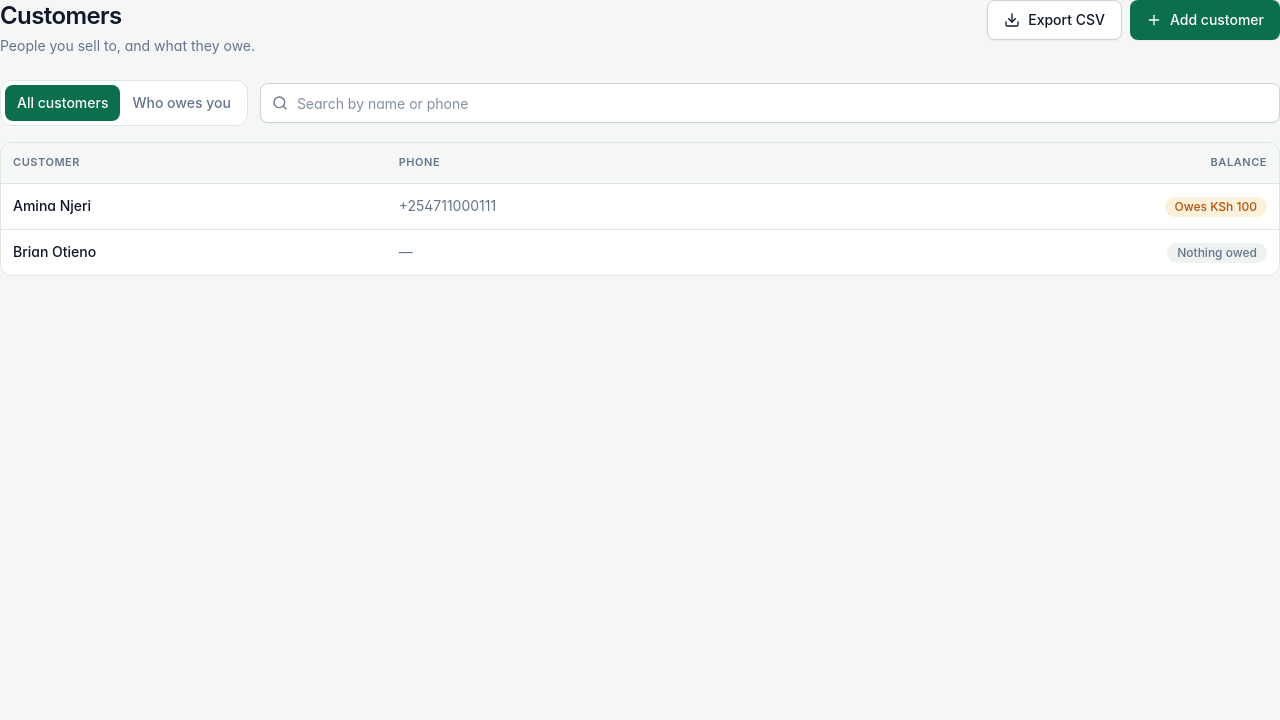
Test case: CustomersPage › lists customers, switches to debtors, and surfaces a duplicate phone on the field
Check: the button "Brian Otieno" is shown, box [13,242,96,262]
Check: the text "Owes KSh 100" is shown, box [1164,196,1267,216]
Click the tab "Who owes you": (182, 103) [120,85,243,121]
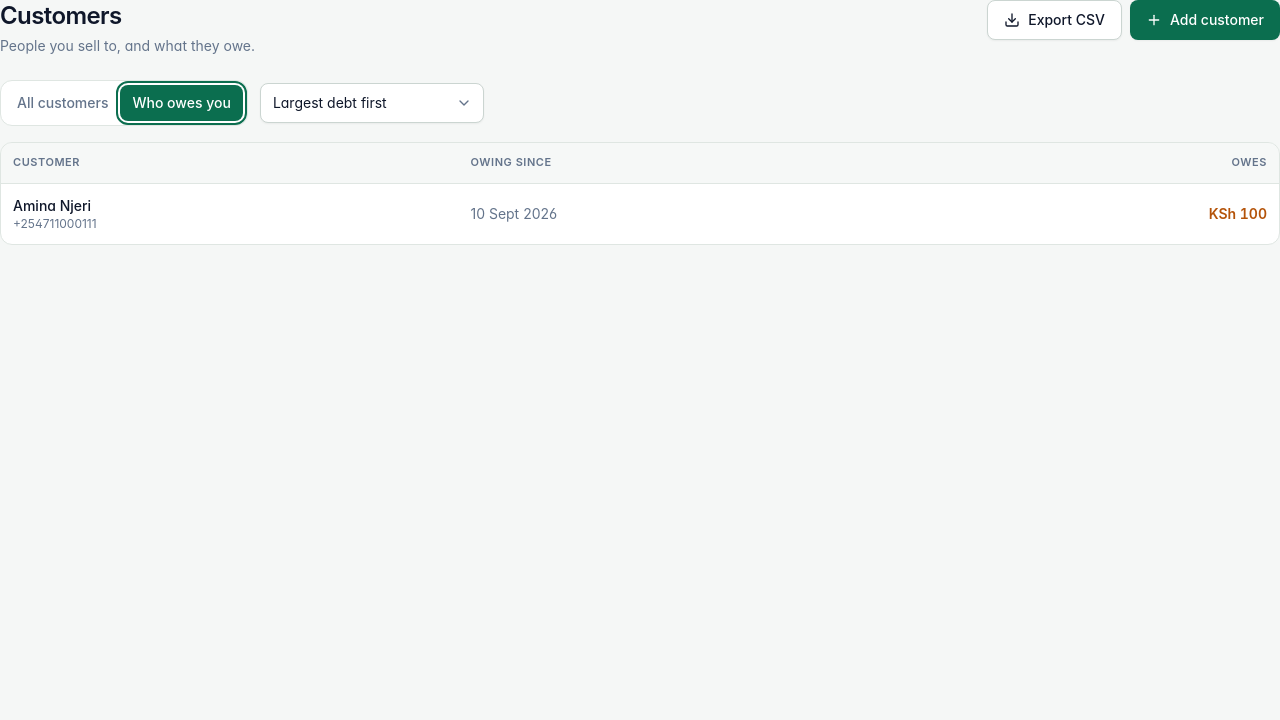
Check: the button "Amina Njeri" is shown, box [13,196,91,216]
Check: the dropdown named "Sort debtors" is shown, box [260,83,484,123]
Check: the button "Brian Otieno" is gone
Click the button "Add customer": (1205, 20) [1130,0,1279,40]
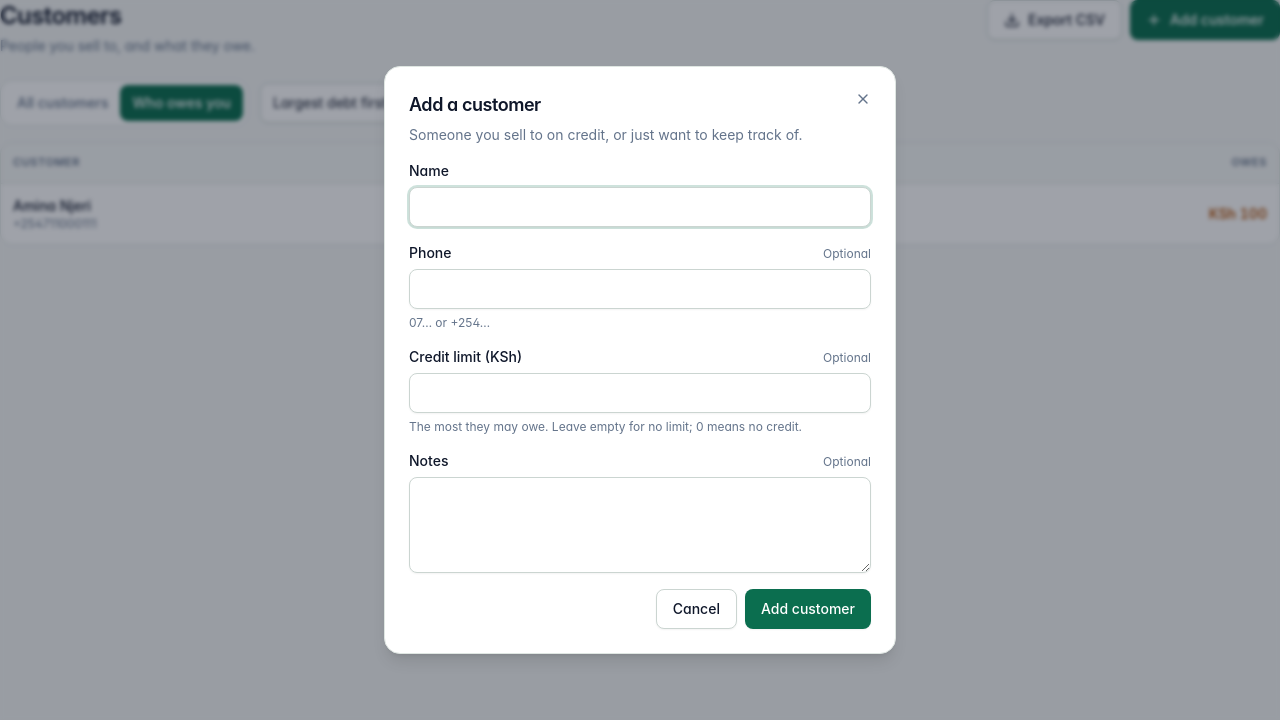
In the field labelled "Name": (640, 207) [409,187,871,227], type "Amina Njeri"
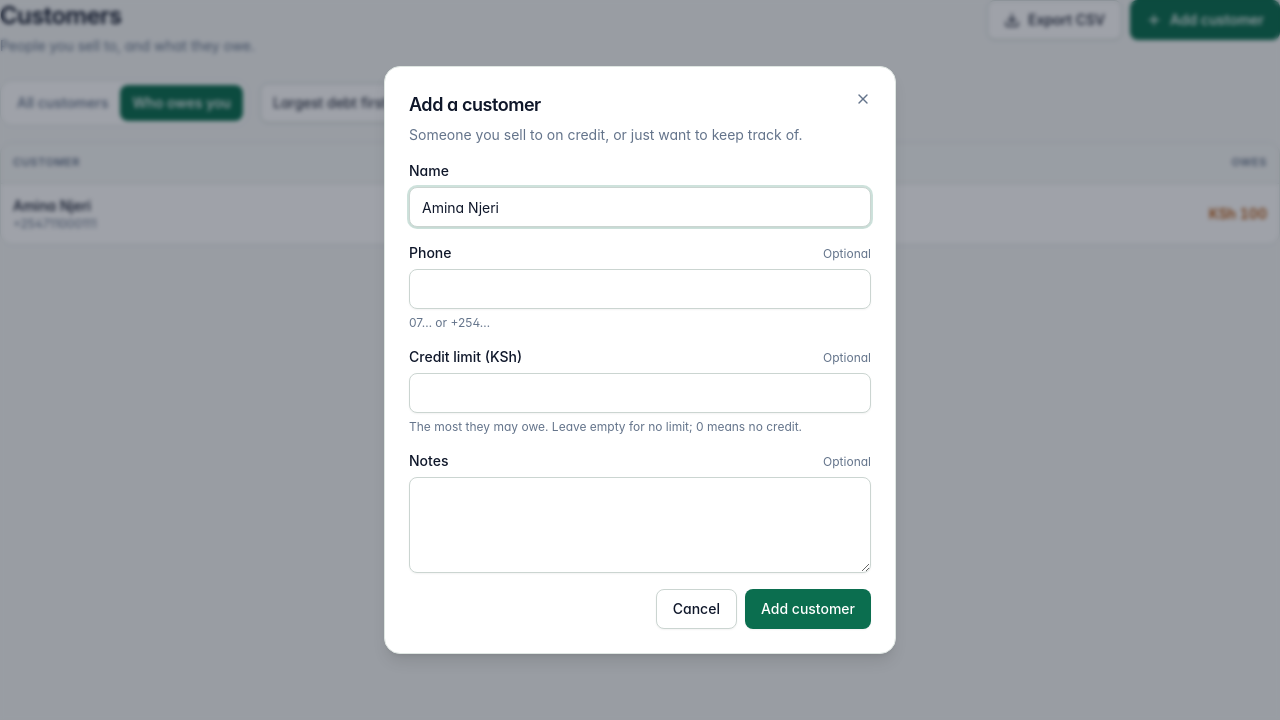
In the field labelled "Phone Optional": (640, 289) [409,269,871,309], type "0711000111"
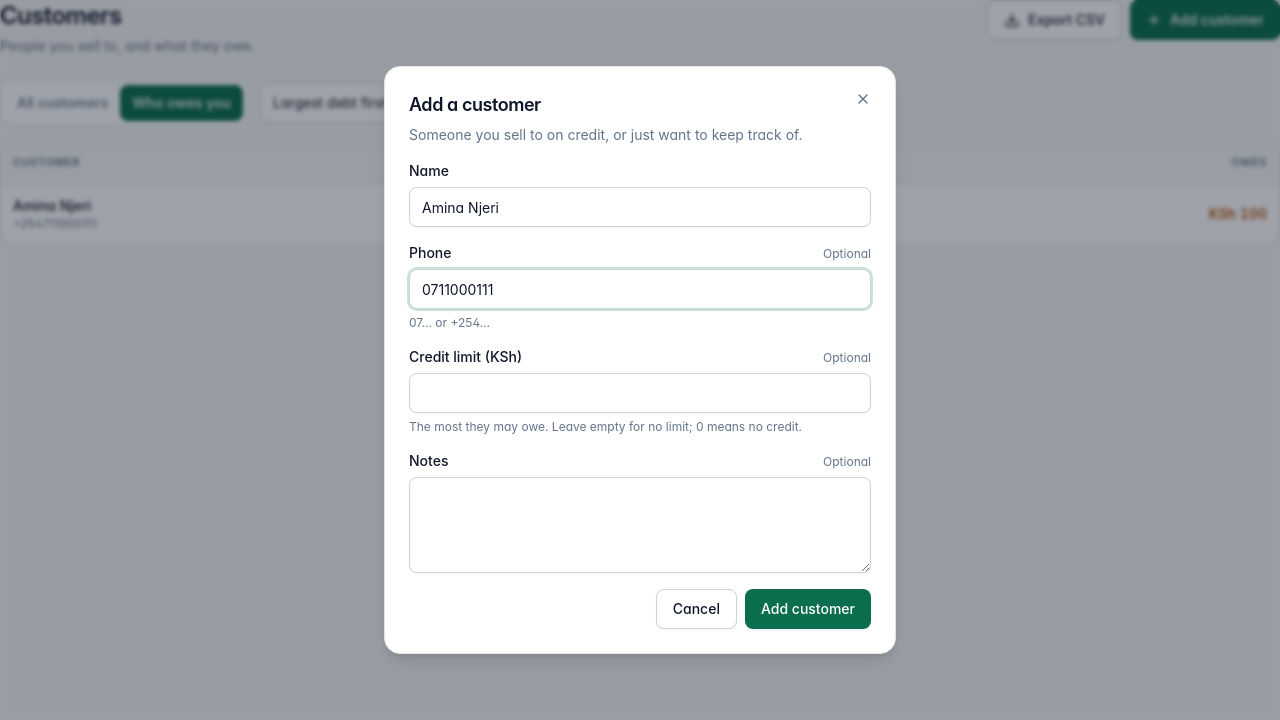
Click the button "Add customer": (808, 609) [745,589,871,629]
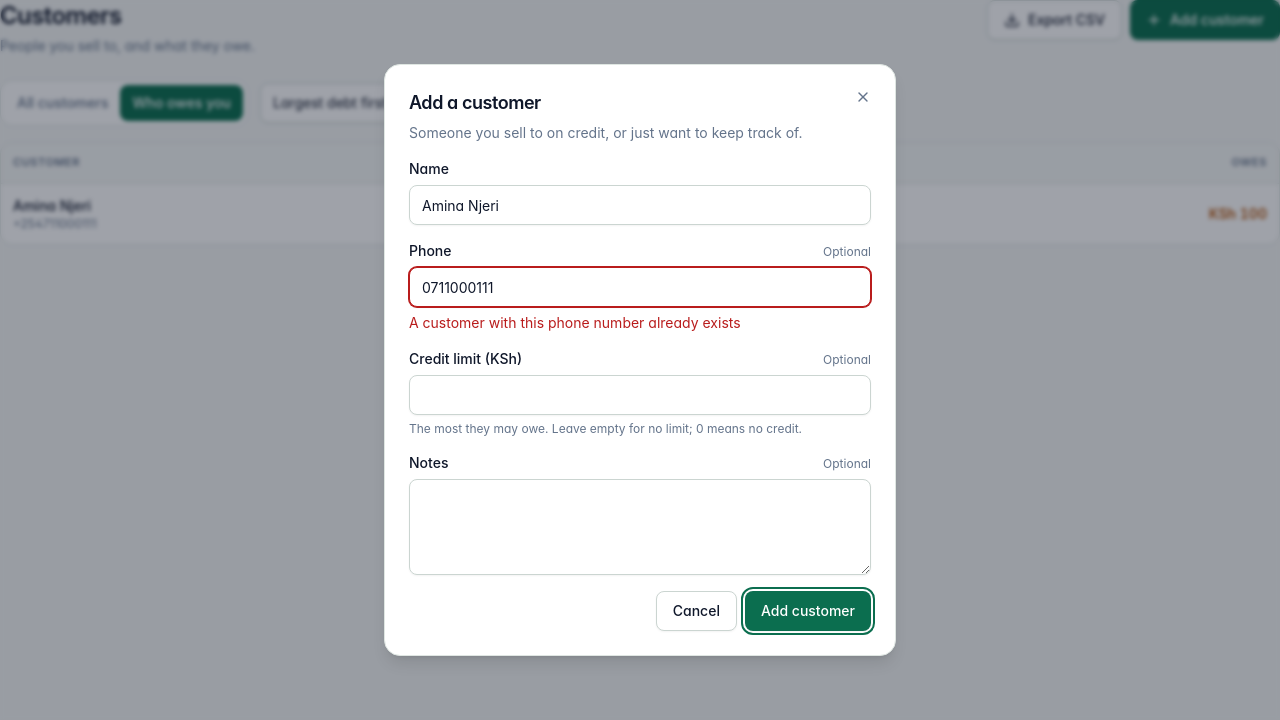
Check: the message shows "phone number already exists", box [409,314,741,331]
